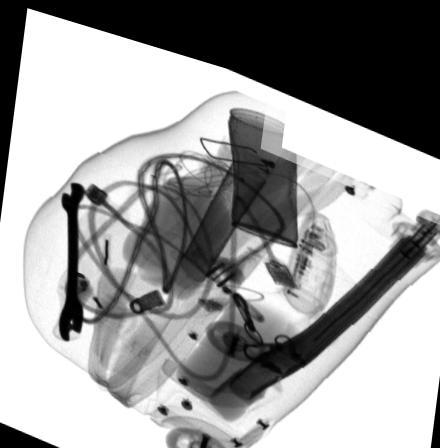Wrench: (57, 177, 82, 337)
